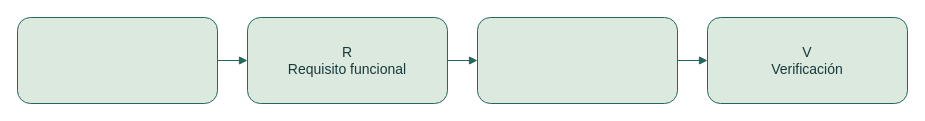
Image size: 925x121. Some labels were removed from this diagram. Each missing label, with the box of its shape:
N Necesidad del usuario: (16, 16, 218, 104)
U Modelo UML: (476, 16, 678, 104)
